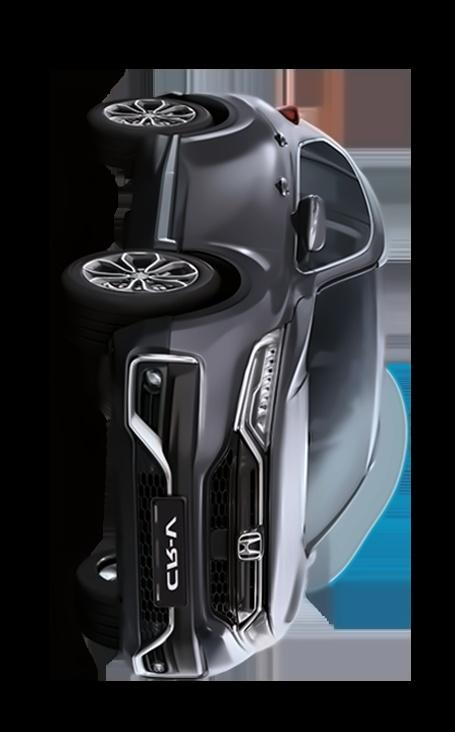Car hood: (260, 286, 322, 640)
Driver-s door - -F-R-: (136, 177, 390, 280)
Fender - -F-R-: (111, 227, 329, 340)
Fender - -R-R-: (159, 80, 299, 149)
Front bumper: (88, 307, 244, 687)
Headlight - -R-: (232, 320, 293, 472)
Passenger-s door - -R-R-: (130, 115, 391, 217)
Side bumper - -R-: (110, 126, 204, 263)
Side mirror - -R-: (286, 191, 330, 266)
